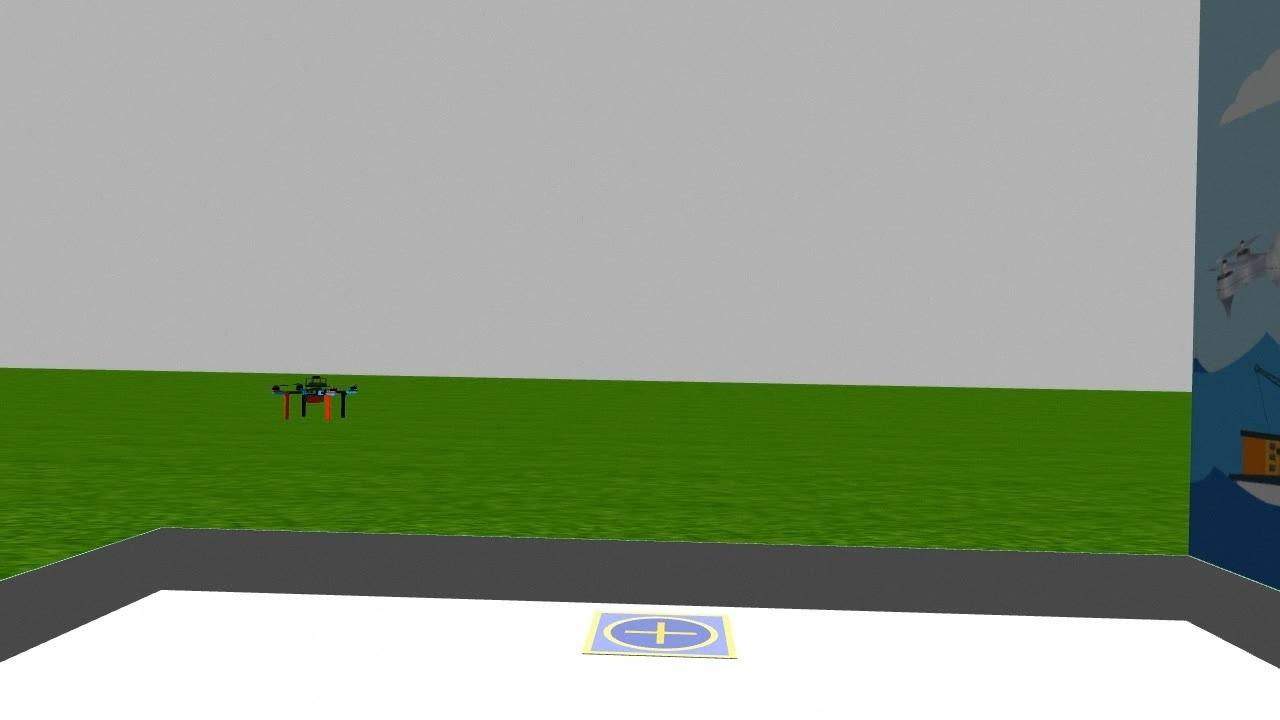UAV: (271, 364, 367, 444)
